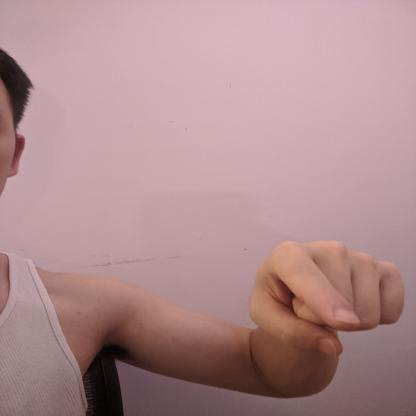Z: (246, 235, 410, 360)
